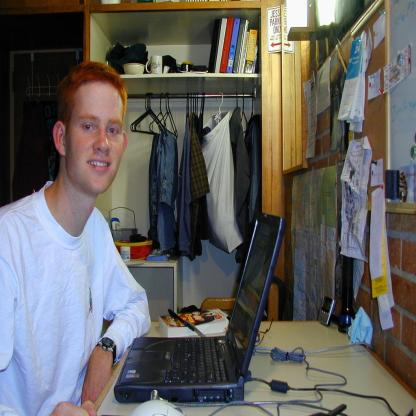board: (115, 211, 286, 404)
